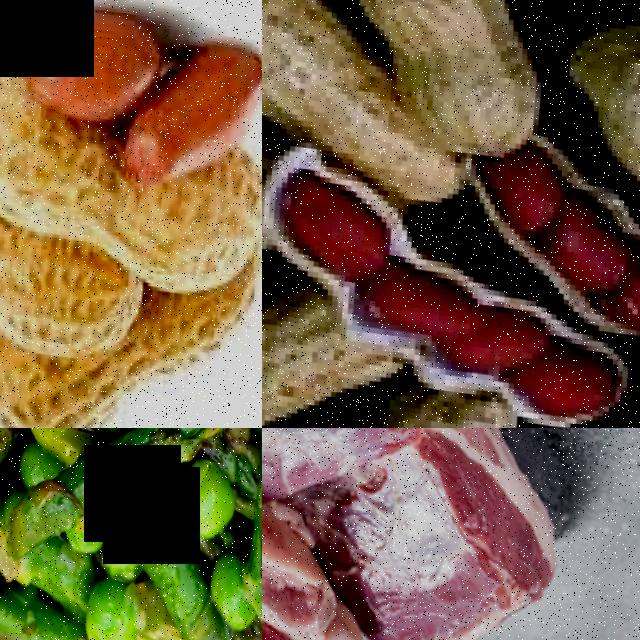peanuts: (388, 0, 559, 160), (137, 23, 262, 190), (0, 216, 138, 360), (0, 96, 126, 239), (19, 0, 159, 120), (262, 0, 371, 129), (262, 275, 342, 428), (339, 381, 509, 428)
pork belly: (317, 428, 569, 640)
